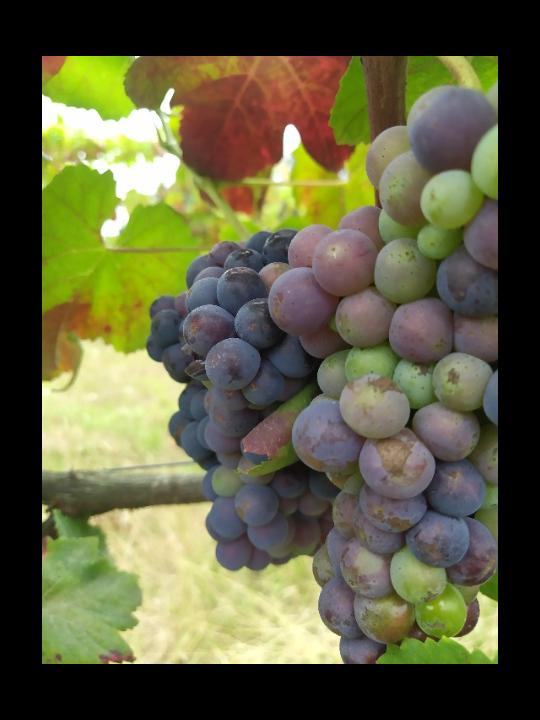grape: (262, 85, 498, 664), (144, 229, 336, 576)
